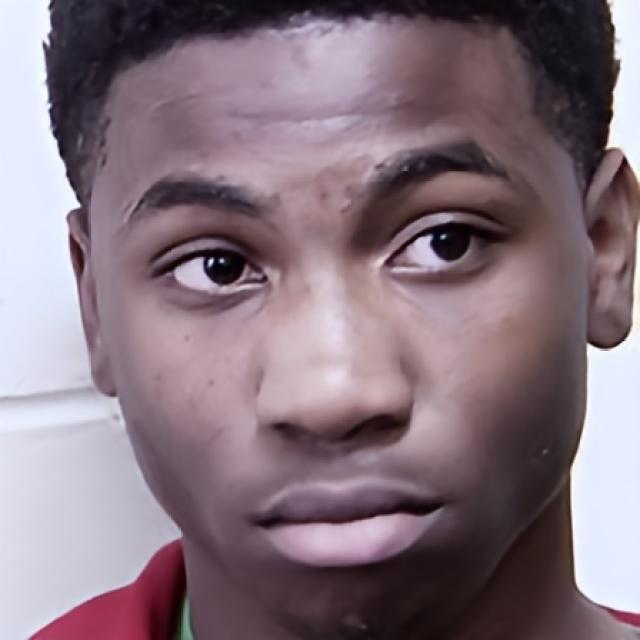surprise: (87, 10, 587, 640)
